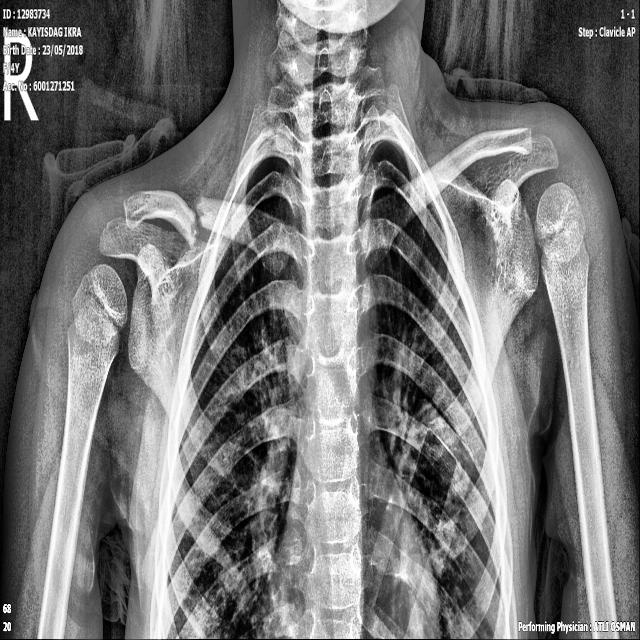Fracture: (174, 182, 214, 255)
